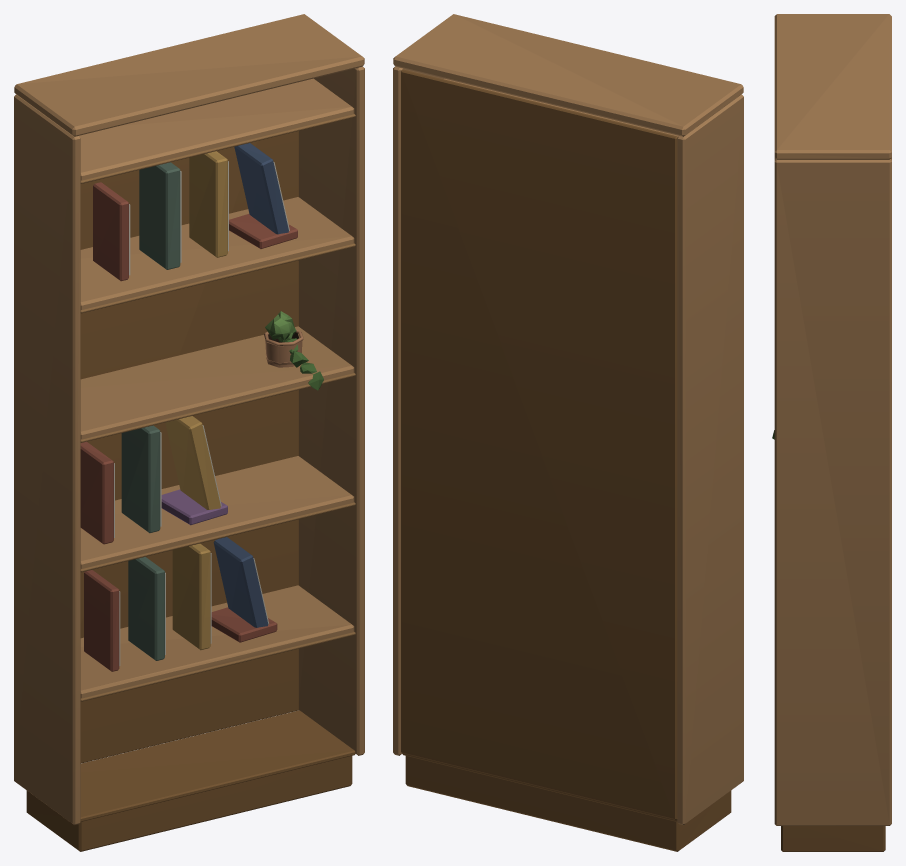
The model's file is office_bookshelf.glb.
3 views of the same model, side by side, from view 1: azimuth 30°, elevation 25°; view 2: azimuth 150°, elevation 25°; view 3: azimuth 270°, elevation 25° (orthographic). The views are drawn at different scales.
Parts seen in each view (by area): view 1: office_bookshelf; view 2: office_bookshelf; view 3: office_bookshelf.
Part boxes in pixels (<box>): office_bookshelf: <box>14,14,364,851</box>; office_bookshelf: <box>393,14,743,851</box>; office_bookshelf: <box>772,14,891,851</box>.
Size of the model in its own units: 0.78 by 1.86 by 0.2858.
